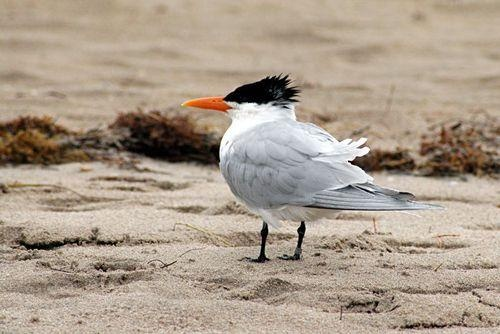bird: (174, 75, 454, 264)
